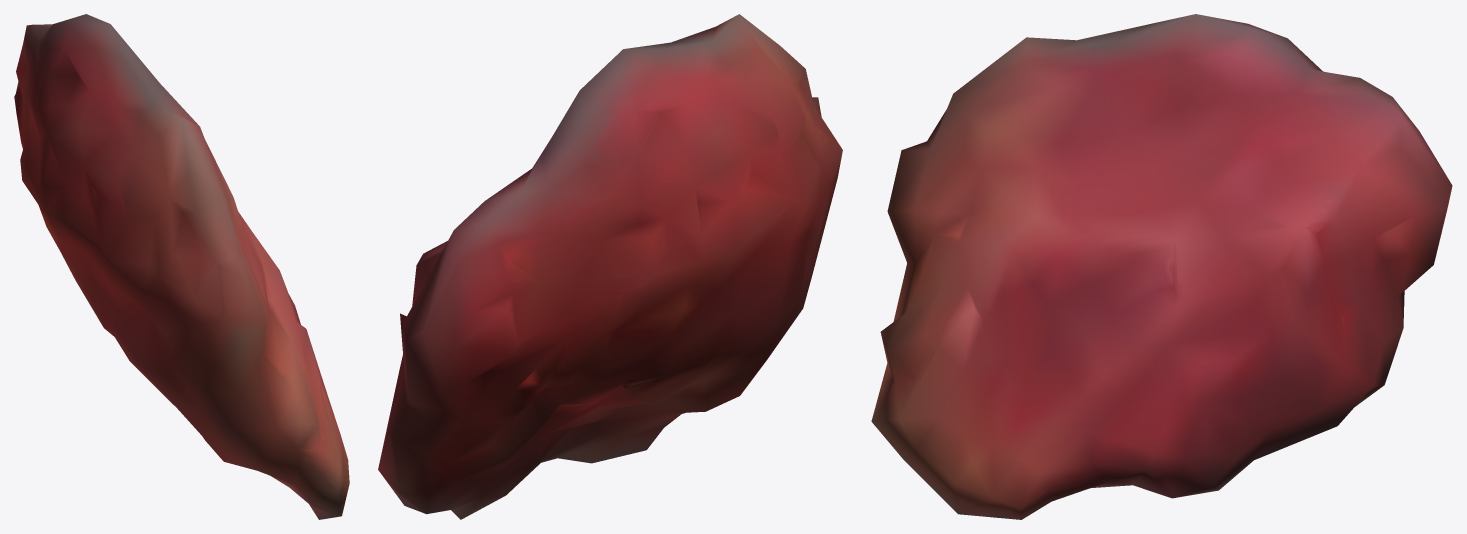
File: critter_meat.glb
3 renders of one model, left to right at view 1: azimuth 30°, elevation 25°; view 2: azimuth 150°, elevation 25°; view 3: azimuth 270°, elevation 25°, orthographic. The views are drawn at different scales.
Visible parts, largest first — view 1: model; view 2: model; view 3: model.
Boxes of the visible parts, bbox=[...] form: model: bbox=[14, 14, 349, 519]; model: bbox=[378, 14, 842, 519]; model: bbox=[871, 14, 1452, 519].
Size of the model in its own units: 0.1848 by 0.341 by 0.4045.
Materials: 1 (1 with a texture image).
